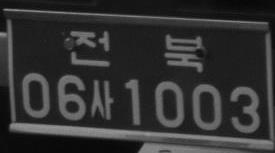0: (154, 80, 185, 128), (191, 82, 221, 131), (21, 71, 50, 119)
1: (120, 78, 146, 125)
3: (229, 84, 261, 134)
6: (56, 73, 87, 121)
사: (89, 79, 115, 120)
전북_D: (68, 30, 204, 73)
